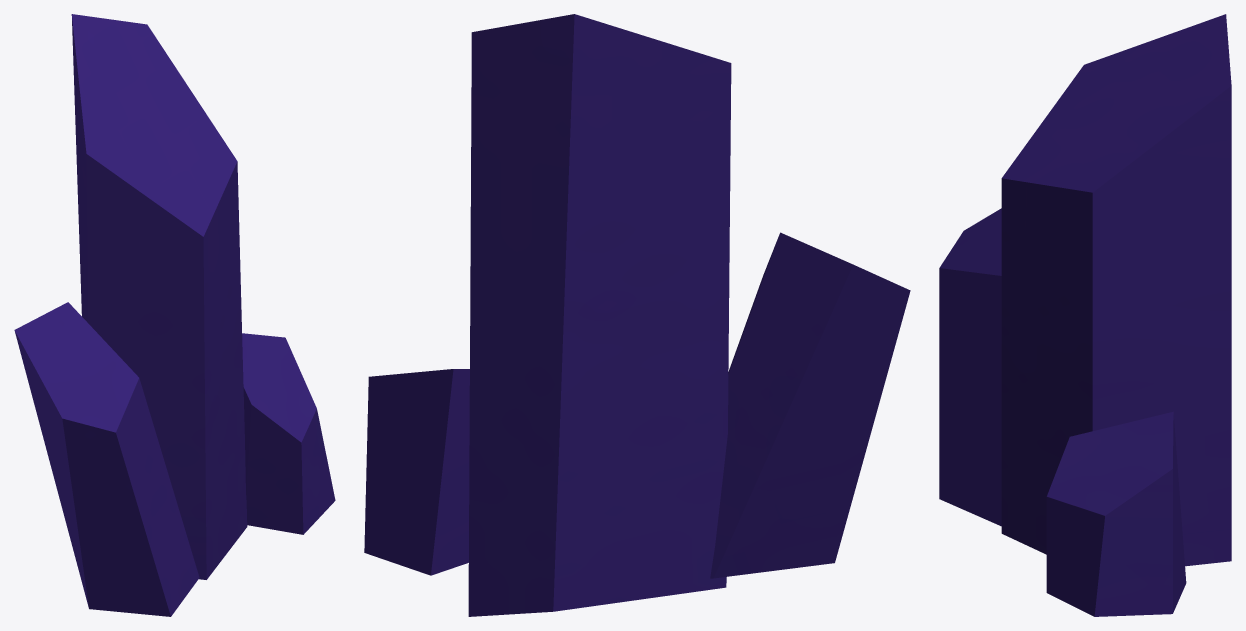
3 renders of one model, left to right at view 1: azimuth 30°, elevation 25°; view 2: azimuth 150°, elevation 25°; view 3: azimuth 270°, elevation 25°, orthographic. The views are drawn at different scales.
Parts seen in each view (by area): view 1: 6; view 2: 6; view 3: 6.
Part boxes in pixels (<box>): 6: <box>14,14,335,616</box>; 6: <box>364,14,910,616</box>; 6: <box>939,14,1231,616</box>.
Bounding box in the file's own units: 88.55 × 123 × 64.4.
Materials: 1 (1 with a texture image).
